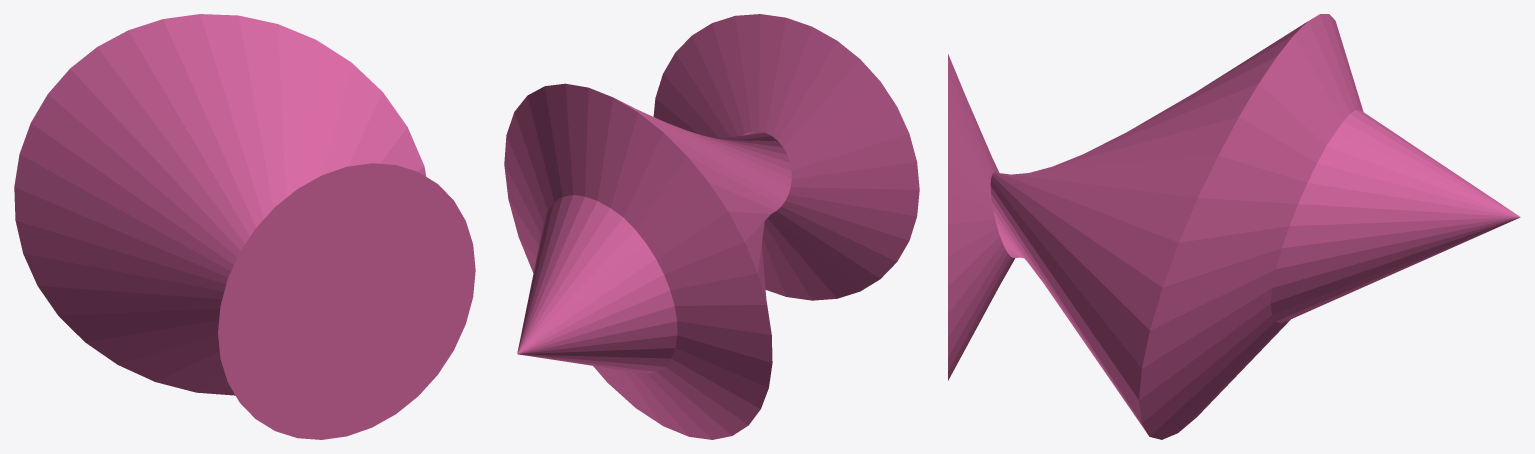
Rendered from GreatPoint.fbx.
3 views of the same model, side by side, from view 1: azimuth 30°, elevation 25°; view 2: azimuth 150°, elevation 25°; view 3: azimuth 270°, elevation 25° (orthographic). The views are drawn at different scales.
Parts seen in each view (by area): view 1: Cone; view 2: Cone; view 3: Cone.
Boxes of the visible parts, left/top/right/bottom form: Cone: left=14, top=14, right=475, bottom=439; Cone: left=504, top=14, right=919, bottom=439; Cone: left=948, top=14, right=1520, bottom=439.
Size of the model in its own units: 745 by 740 by 999.
